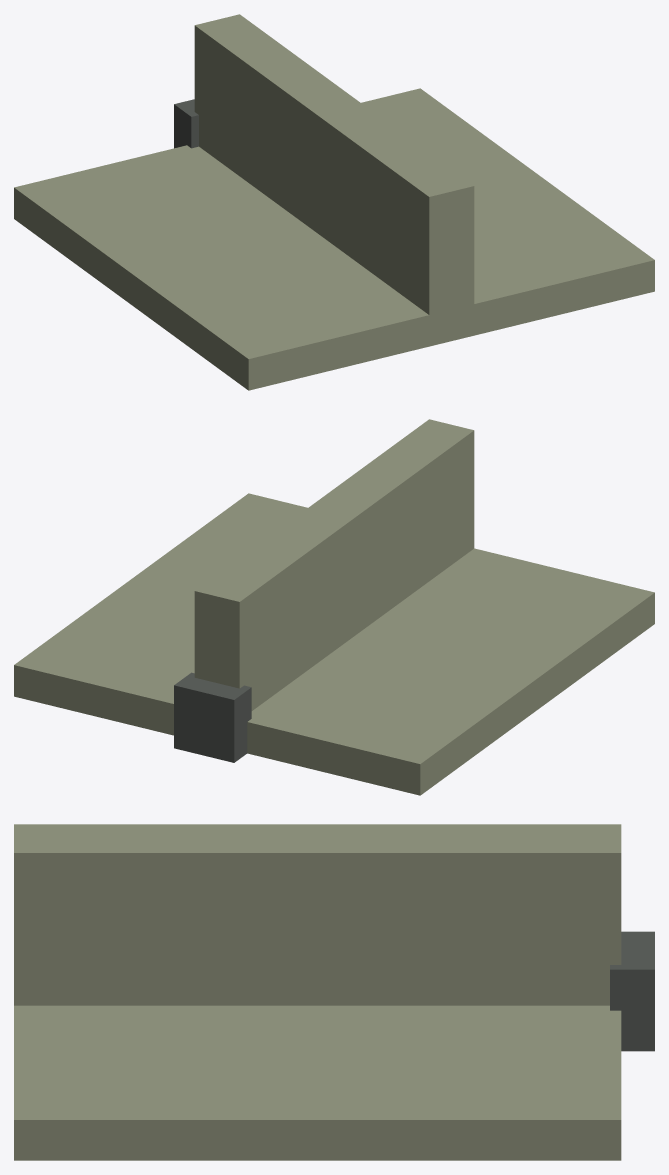
The model's file is harness.glb.
3 renders of one model, top to bottom at view 1: azimuth 30°, elevation 25°; view 2: azimuth 150°, elevation 25°; view 3: azimuth 270°, elevation 25°, orthographic. The views are drawn at different scales.
Parts seen in each view (by area): view 1: head; view 2: head; view 3: head.
Boxes of the visible parts, x1,y1,x2,y2 form: head: [14, 14, 654, 390]; head: [14, 419, 654, 795]; head: [14, 824, 654, 1160].
Size of the model in its own units: 0.54 by 0.19 by 0.57.
